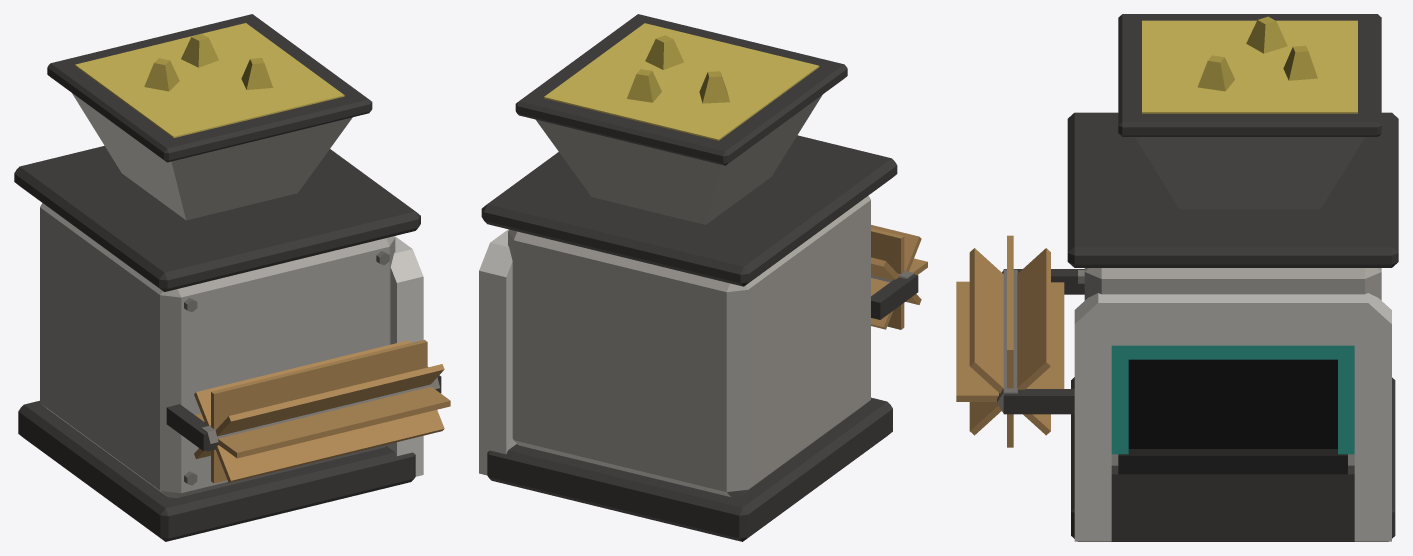
The model's file is harvester.fbx.
The picture shows the model from 3 angles, left to right: view 1: azimuth 30°, elevation 25°; view 2: azimuth 150°, elevation 25°; view 3: azimuth 270°, elevation 25°; orthographic projection. The views are drawn at different scales.
Visible parts, largest first — view 1: harvester; view 2: harvester; view 3: harvester.
Boxes of the visible parts, x1,y1,x2,y2 form: harvester: (14, 14, 450, 541); harvester: (479, 14, 927, 541); harvester: (956, 14, 1398, 541).
Bounding box in the file's own units: 2.97 × 4.26 × 3.93.
